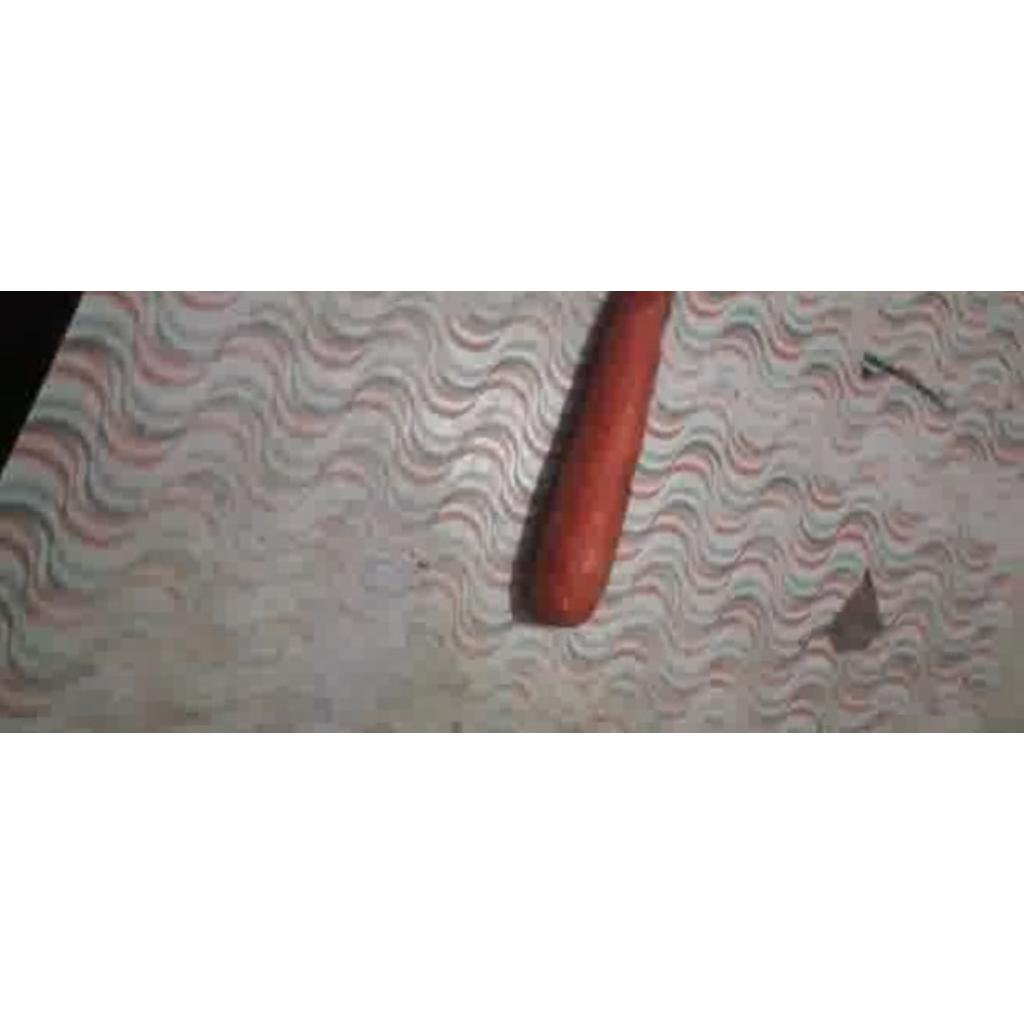carrot: (512, 291, 670, 624)
